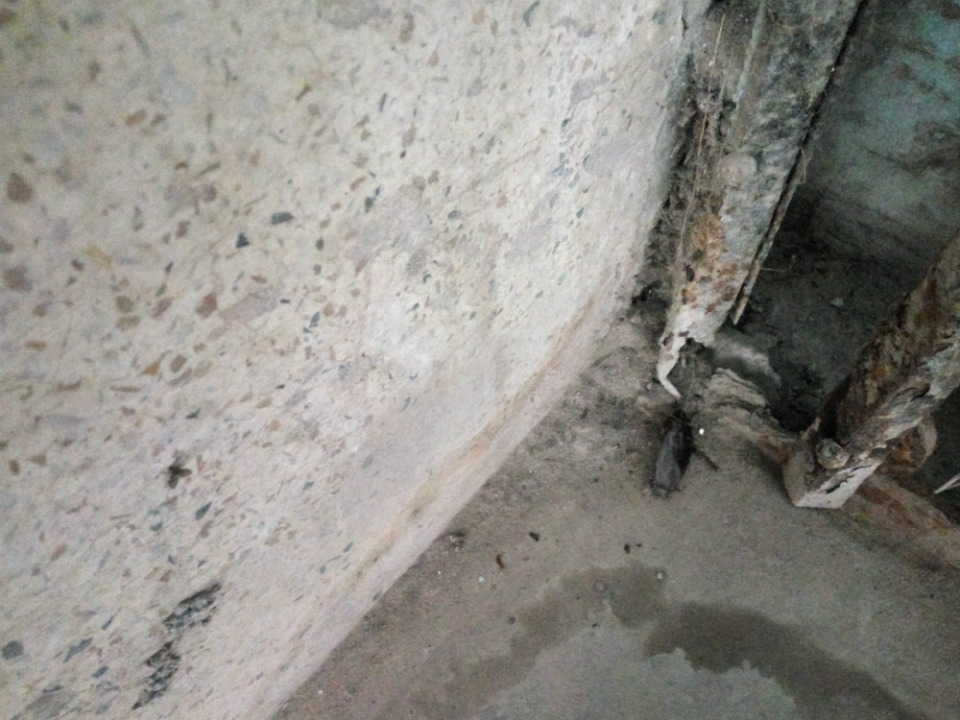cockroach: (593, 373, 742, 518)
